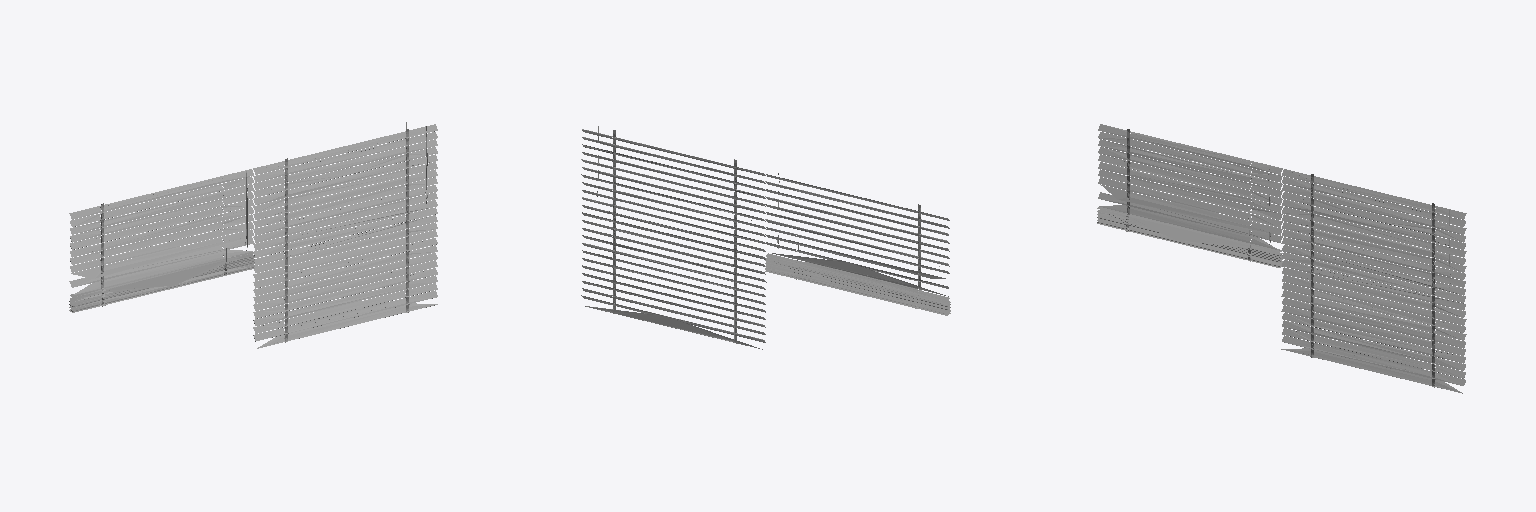
File: janela_com_persiana.obj
The picture shows the model from 3 angles: view 1: azimuth 30°, elevation 25°; view 2: azimuth 150°, elevation 25°; view 3: azimuth 330°, elevation 25°; orthographic projection.
Parts seen in each view (by area): view 1: window_blinds1_window_blinds2__window_blinds_open_Boole_4; view 2: window_blinds1_window_blinds2__window_blinds_open_Boole_4; view 3: window_blinds1_window_blinds2__window_blinds_open_Boole_4.
Boxes of the visible parts, x1,y1,x2,y2 form: window_blinds1_window_blinds2__window_blinds_open_Boole_4: [69, 122, 437, 348]; window_blinds1_window_blinds2__window_blinds_open_Boole_4: [581, 126, 950, 349]; window_blinds1_window_blinds2__window_blinds_open_Boole_4: [1097, 124, 1466, 393].
Bounding box in the file's own units: 4.68 × 2.31 × 0.4925.